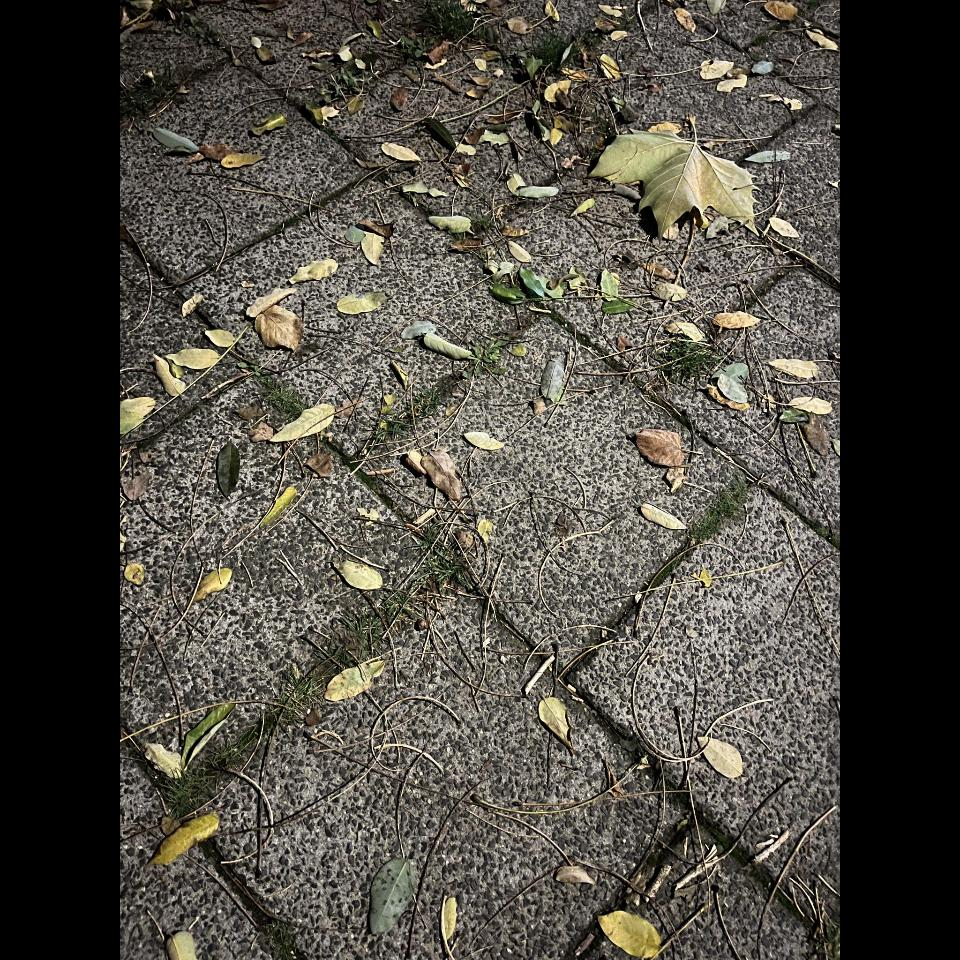weed: (159, 557, 468, 821), (362, 323, 530, 451), (325, 4, 485, 103), (674, 474, 756, 552), (517, 21, 592, 79), (655, 339, 708, 384)
